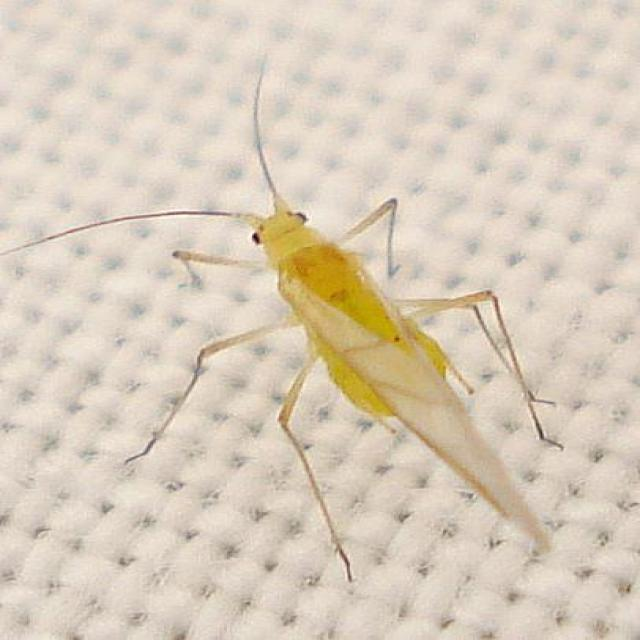Aphids: (69, 88, 598, 558)
